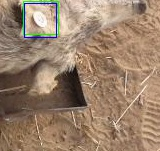text: (23, 1, 58, 34)
